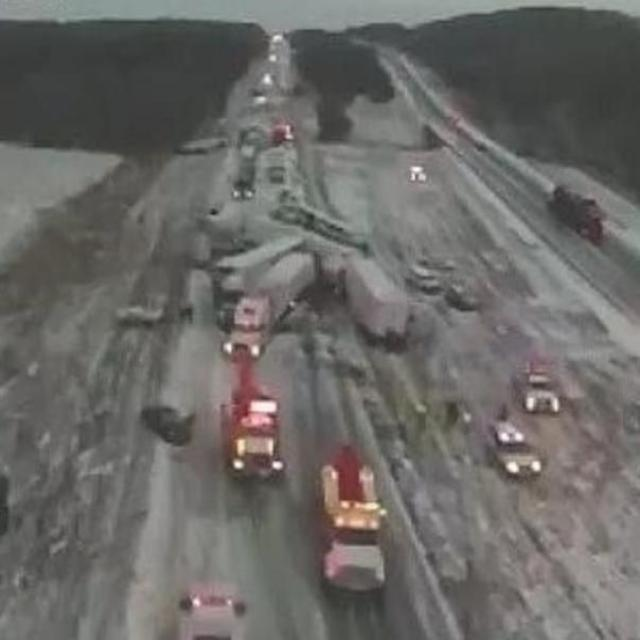traffic_incident: (199, 188, 403, 358)
